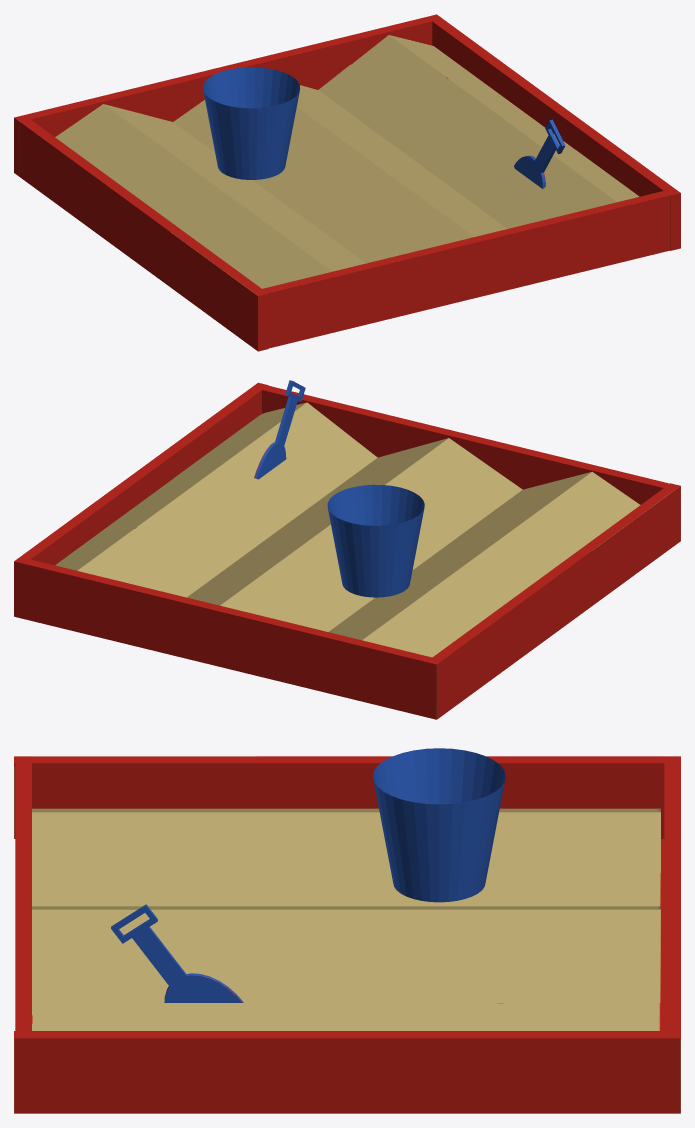
The model's file is CajaArena.obj.
3 views of the same model, one above another, from view 1: azimuth 30°, elevation 25°; view 2: azimuth 150°, elevation 25°; view 3: azimuth 270°, elevation 25° (orthographic). The views are drawn at different scales.
Parts seen in each view (by area): view 1: Cylinder; view 2: Cylinder; view 3: Cylinder.
Boxes of the visible parts, x1=… form: Cylinder: x1=14, y1=14, x2=680, y2=351; Cylinder: x1=14, y1=380, x2=680, y2=719; Cylinder: x1=14, y1=748, x2=680, y2=1113.
Size of the model in its own units: 36.95 by 9.47 by 36.95.
Materials: 1 (1 with a texture image).
